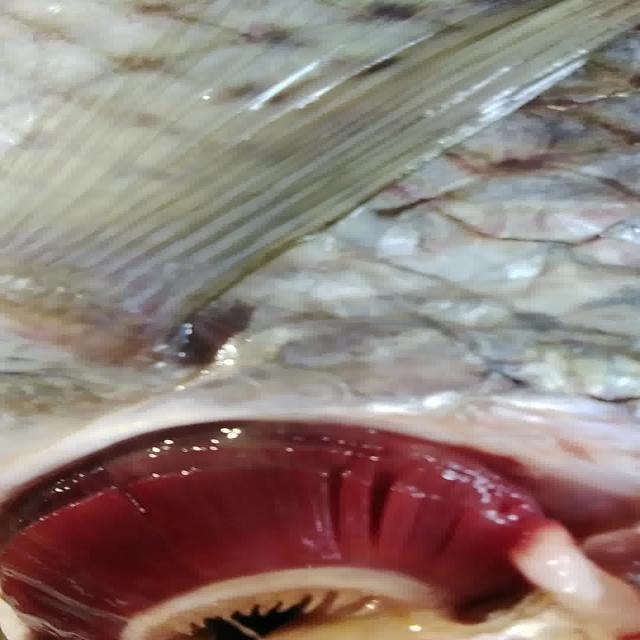Fresh: (4, 400, 583, 635)
